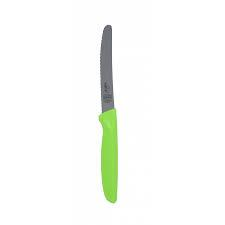Knife: (98, 24, 118, 203)
